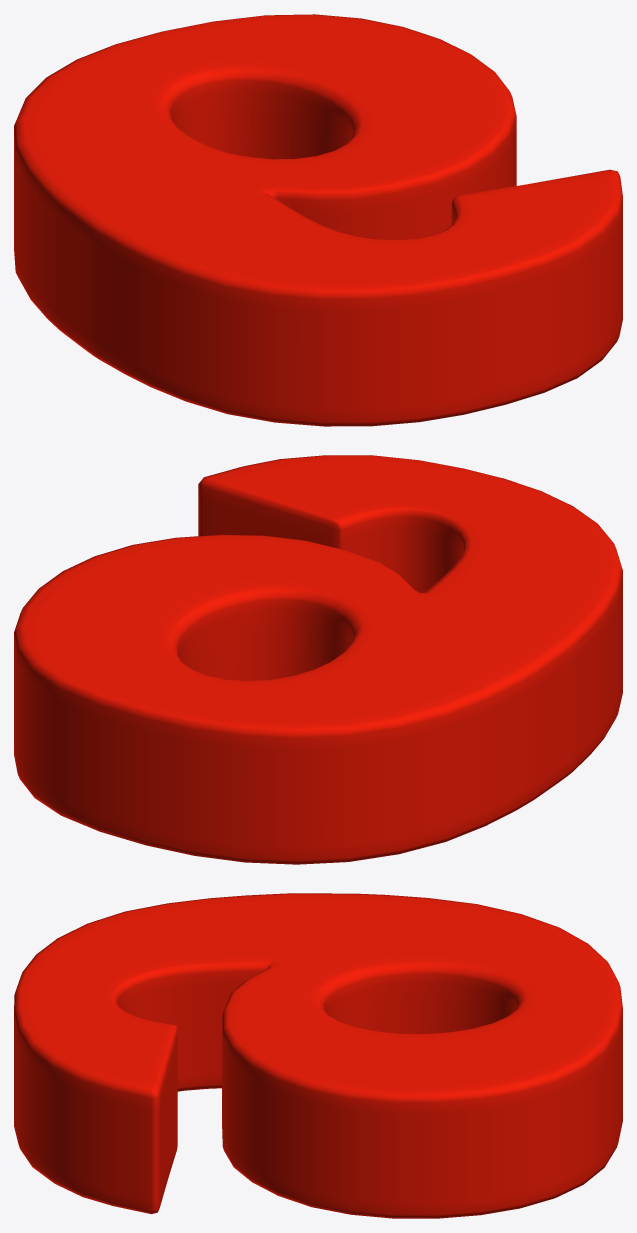
3 views of the same model, one above another, from view 1: azimuth 30°, elevation 25°; view 2: azimuth 150°, elevation 25°; view 3: azimuth 270°, elevation 25° (orthographic). The views are drawn at different scales.
Visible parts, largest first — view 1: Six_lambert1_0; view 2: Six_lambert1_0; view 3: Six_lambert1_0.
Part boxes in pixels (bbox=[...]): Six_lambert1_0: bbox=[14, 14, 622, 426]; Six_lambert1_0: bbox=[14, 455, 622, 864]; Six_lambert1_0: bbox=[14, 893, 622, 1218].
Size of the model in its own units: 1.75 by 0.4975 by 2.19.
